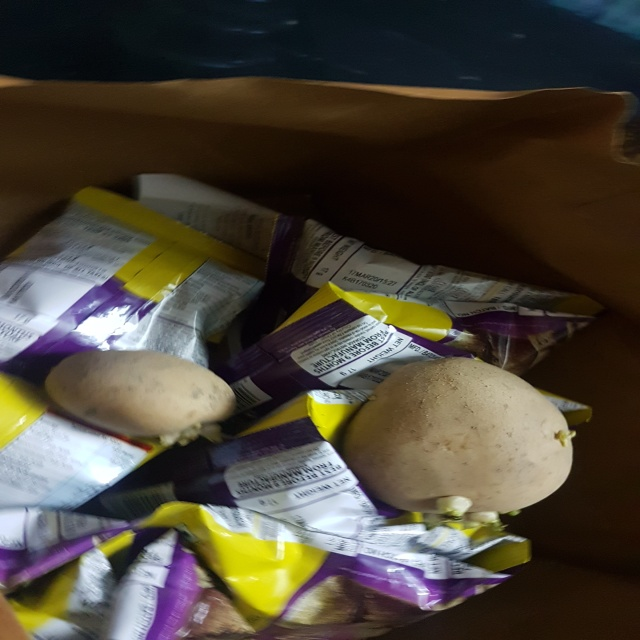potato: (339, 351, 583, 534), (42, 337, 252, 453)
